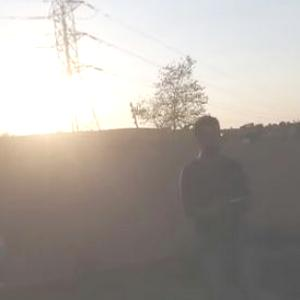follow: (166, 104, 256, 299)
